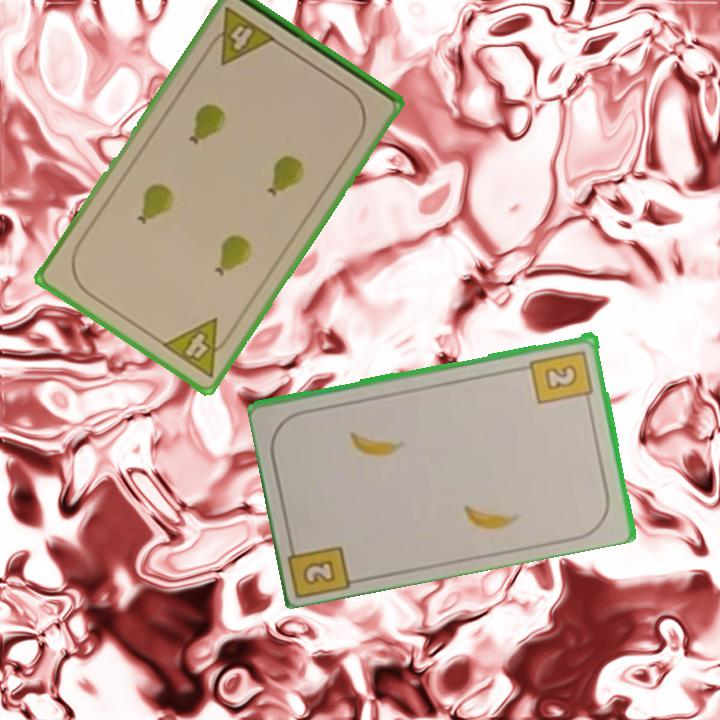2b: (285, 533, 356, 598), (527, 346, 596, 407)
4p: (158, 314, 238, 381), (202, 4, 279, 69)
